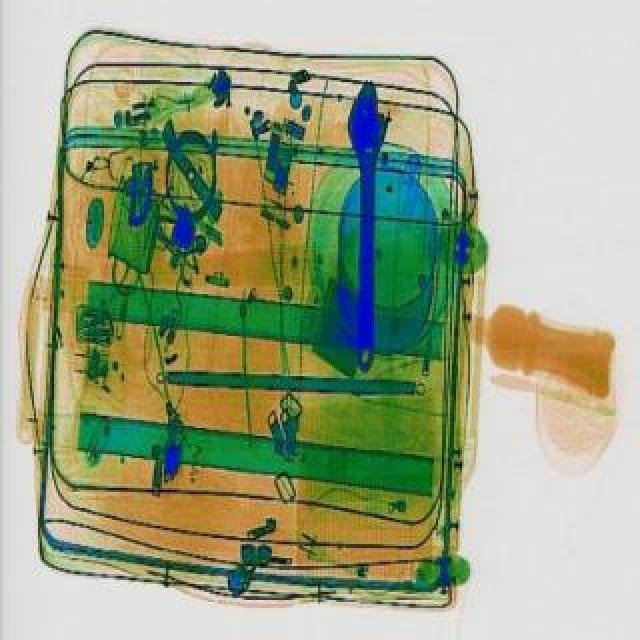scissors: (342, 78, 390, 370)
